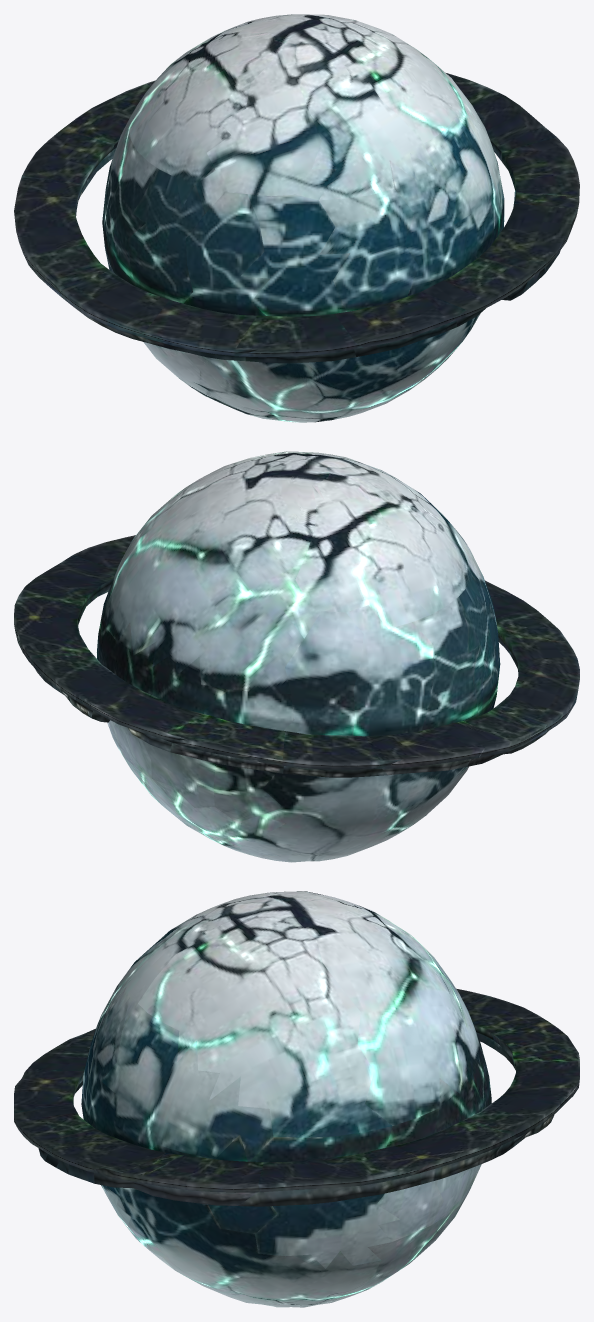
The model's file is 019fde80-6581-7e7e-879f-eee203bf0e65.glb.
3 renders of one model, top to bottom at view 1: azimuth 30°, elevation 25°; view 2: azimuth 150°, elevation 25°; view 3: azimuth 270°, elevation 25°, orthographic.
Parts seen in each view (by area): view 1: mesh_node; view 2: mesh_node; view 3: mesh_node.
Boxes of the visible parts, x1,y1,x2,y2 form: mesh_node: (14, 14, 579, 422); mesh_node: (14, 451, 579, 862); mesh_node: (14, 891, 579, 1307).
Size of the model in its own units: 1 by 0.7402 by 1.
Materials: 1 (1 with a texture image).
